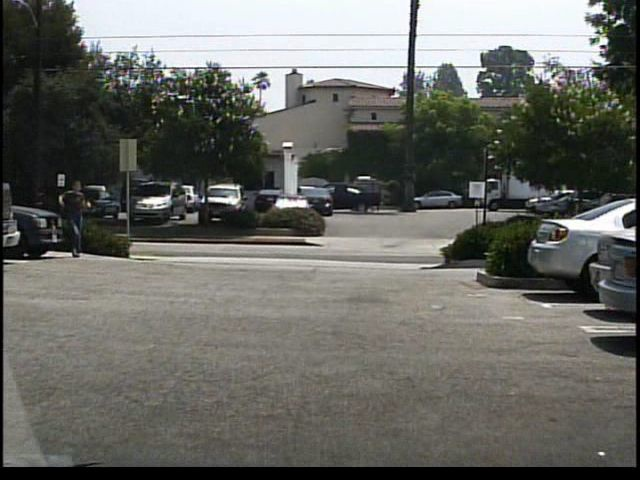person: (58, 179, 93, 261)
